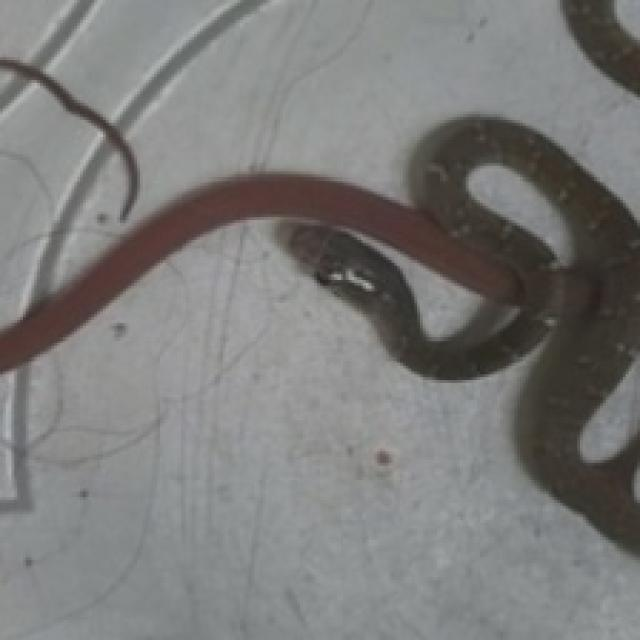reddish rat snake: (0, 116, 640, 553), (1, 58, 139, 221), (562, 0, 640, 94)
